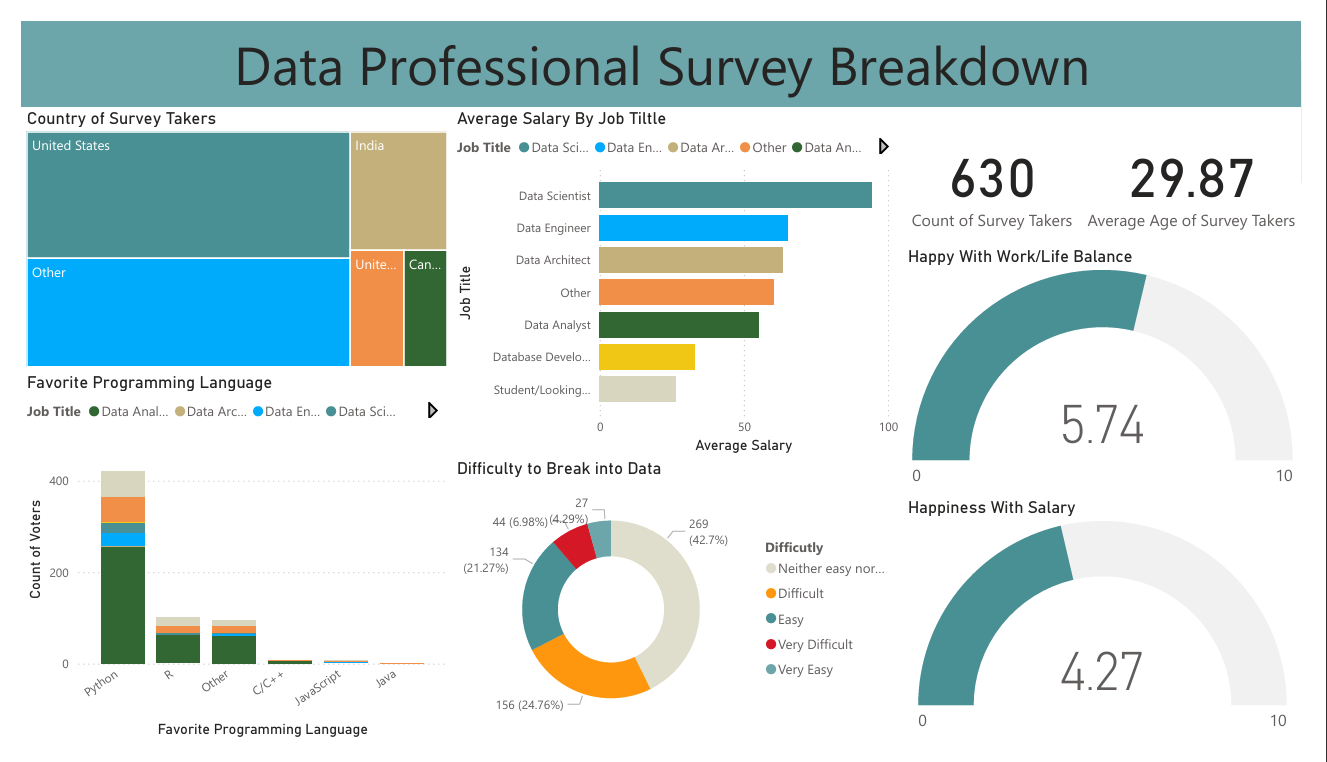

The page's visual inventory and layout, read from the dashboard file:
{"tool":"powerbi","page":{"name":"Page 1","canvas":[1280,720],"ordinal":0},"visuals":[{"type":"textbox","box":[0,0,1280.3,86.4],"z":0},{"type":"card","fields":{"Values":["Count(Data Professional Survey.Unique ID)"]},"box":[881,86.4,178.4,146.8],"z":1000},{"type":"card","fields":{"Values":["Avg(Data Professional Survey.Q10 - Current Age)"]},"box":[1059.4,86.4,220.9,146.8],"z":2000},{"type":"barChart","title":"Average Salary By Job Tiltle","fields":{"Category":["Data Professional Survey.Q1 - Which Title Best Fits your Current Role?.1"],"Y":["Avg(Data Professional Survey.Average Salary)"],"Series":["Data Professional Survey.Q1 - Which Title Best Fits your Current Role?.1"]},"box":[429.5,86.4,451.5,349.9],"z":3000},{"type":"columnChart","title":"Favorite Programming Language","fields":{"Category":["Data Professional Survey.Q5 - Favorite Programming Language.1"],"Y":["CountNonNull(Data Professional Survey.Unique ID)"],"Series":["Data Professional Survey.Q1 - Which Title Best Fits your Current Role?.1"]},"box":[0,349.9,429.5,370.5],"z":4000},{"type":"treemap","title":"Country of Survey Takers","fields":{"Group":["Data Professional Survey.Q11 - Which Country do you live in?.1"],"Values":["CountNonNull(Data Professional Survey.Q11 - Which Country do you live in?.1)"]},"box":[0,86.4,429.5,263.5],"z":5000},{"type":"gauge","title":" Happy With Work/Life Balance ","fields":{"Y":["Avg(Data Professional Survey.Q6 - How Happy are you in your Current Position with the following? (Work/Life Balance))"],"MinValue":["Min(Data Professional Survey.Q6 - How Happy are you in your Current Position with the following? (Work/Life Balance))"],"MaxValue":["Max(Data Professional Survey.Q6 - How Happy are you in your Current Position with the following? (Work/Life Balance))1"]},"box":[881,223.7,399.3,251.1],"z":6000},{"type":"gauge","title":"Happiness With Salary","fields":{"Y":["Avg(Data Professional Survey.Q6 - How Happy are you in your Current Position with the following? (Salary))"],"MinValue":["Min(Data Professional Survey.Q6 - How Happy are you in your Current Position with the following? (Salary))"],"MaxValue":["Max(Data Professional Survey.Q6 - How Happy are you in your Current Position with the following? (Salary))"]},"box":[881,474.8,399.3,245.6],"z":7000},{"type":"donutChart","title":"Difficulty to Break into Data","fields":{"Category":["Data Professional Survey.Q7 - How difficult was it for you to break into Data?"],"Y":["CountNonNull(Data Professional Survey.Q7 - How difficult was it for you to break into Data?)"]},"box":[429.5,436.4,451.5,284],"z":8000}]}

Visuals, with their boxes in screenshot pixels (x1, y1, x2, y2), scaled from the page's 1280x720 canvas onto the 1327x762 screenshot:
textbox: [0, 0, 1326, 91]
card - Count(Data Professional Survey.Unique ID): [913, 91, 1098, 247]
card - Avg(Data Professional Survey.Q10 - Current Age): [1098, 91, 1326, 247]
"Average Salary By Job Tiltle" barChart: [445, 91, 913, 462]
"Favorite Programming Language" columnChart: [0, 370, 445, 761]
"Country of Survey Takers" treemap: [0, 91, 445, 370]
" Happy With Work/Life Balance " gauge: [913, 237, 1326, 502]
"Happiness With Salary" gauge: [913, 502, 1326, 761]
"Difficulty to Break into Data" donutChart: [445, 462, 913, 761]
